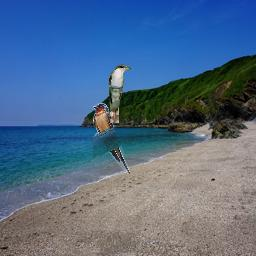Cuckoo: (108, 64, 131, 123)
Swallow: (93, 103, 130, 174)
